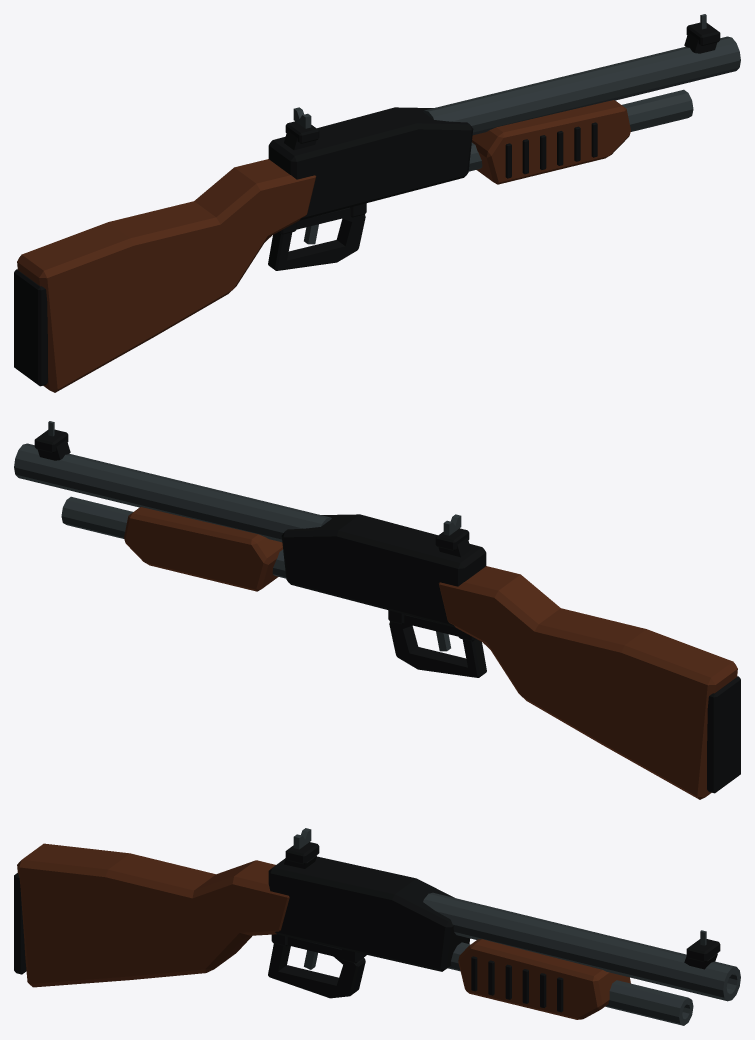
The model's file is CE_Gun_KSTwentyThree.obj.
3 views of the same model, one above another, from view 1: azimuth 30°, elevation 25°; view 2: azimuth 150°, elevation 25°; view 3: azimuth 330°, elevation 25° (orthographic).
Parts seen in each view (by area): view 1: KSTwentyThree_individually_shaped_stock_and_bedding, KSTwentyThree_contoured_receiver, Hollow_gun_barrel, KS23_shaped_pump, Contoured_butt_plate, Shaped_trigger_guard, KS23_magazine_tube; view 2: KSTwentyThree_individually_shaped_stock_and_bedding, KSTwentyThree_contoured_receiver, Hollow_gun_barrel, KS23_shaped_pump, Contoured_butt_plate, Shaped_trigger_guard, KS23_magazine_tube; view 3: KSTwentyThree_individually_shaped_stock_and_bedding, KSTwentyThree_contoured_receiver, Hollow_gun_barrel, KS23_shaped_pump, Shaped_trigger_guard, KS23_magazine_tube, Contoured_butt_plate, Low_sight_base, Low_sight_base.001.
Part boxes in pixels (x1,y1,x2,y2): KSTwentyThree_individually_shaped_stock_and_bedding: [17, 159, 316, 392]; KSTwentyThree_contoured_receiver: [268, 107, 473, 220]; Hollow_gun_barrel: [423, 36, 740, 135]; KS23_shaped_pump: [472, 100, 630, 184]; Contoured_butt_plate: [14, 269, 47, 386]; Shaped_trigger_guard: [268, 207, 365, 270]; KS23_magazine_tube: [468, 89, 693, 171]; KSTwentyThree_individually_shaped_stock_and_bedding: [438, 566, 737, 799]; KSTwentyThree_contoured_receiver: [281, 514, 486, 627]; Hollow_gun_barrel: [14, 443, 331, 542]; KS23_shaped_pump: [124, 507, 282, 591]; Contoured_butt_plate: [707, 676, 740, 793]; Shaped_trigger_guard: [389, 614, 486, 677]; KS23_magazine_tube: [61, 496, 286, 578]; KSTwentyThree_individually_shaped_stock_and_bedding: [17, 843, 289, 987]; KSTwentyThree_contoured_receiver: [268, 856, 470, 971]; Hollow_gun_barrel: [423, 892, 740, 1001]; KS23_shaped_pump: [458, 939, 630, 1019]; Shaped_trigger_guard: [268, 937, 365, 998]; KS23_magazine_tube: [448, 942, 693, 1025]; Contoured_butt_plate: [14, 873, 26, 974]; Low_sight_base: [686, 939, 720, 962]; Low_sight_base.001: [285, 842, 319, 864].
Bounding box in the file's own units: 1.23 × 0.3494 × 0.104.
